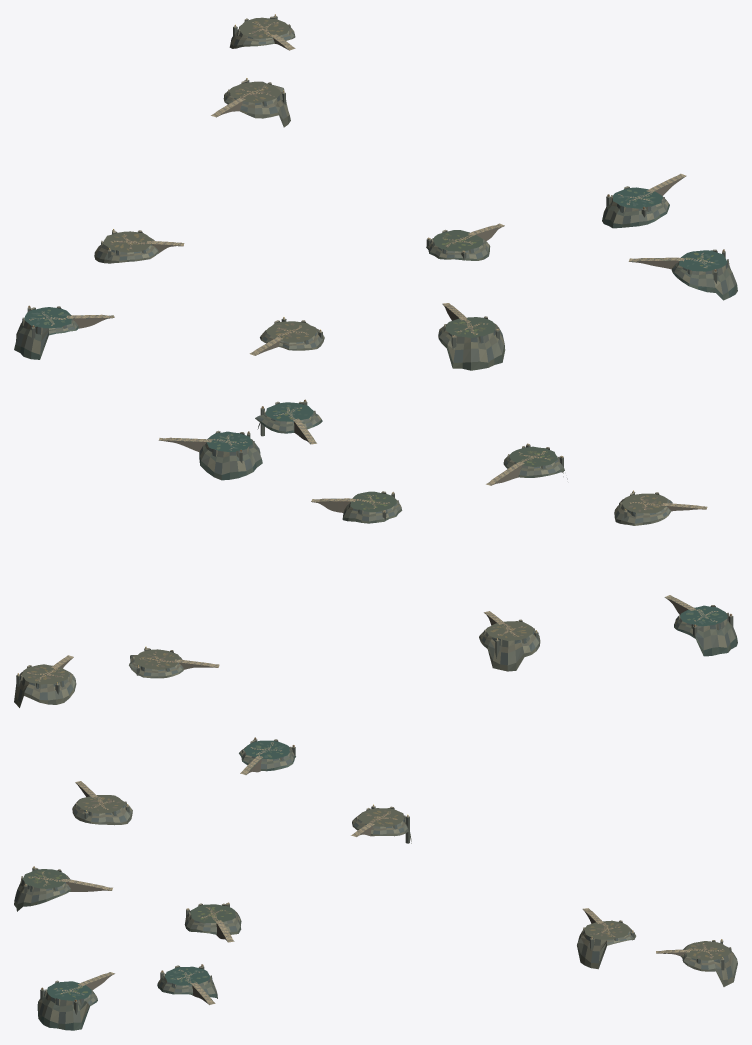
File: roaming_parcels_2.glb
3 views of the same model, one above another, from view 1: azimuth 30°, elevation 25°; view 2: azimuth 150°, elevation 25°; view 3: azimuth 270°, elevation 25° (orthographic). The views are drawn at different scales.
Visible parts, largest first — view 1: Detail_9_16, Detail_14_15, Detail_11_6, Detail_14_13, Detail_12_4, Detail_13_13, Detail_3_12, Deck_11_12-col, Deck_14_13-col, Deck_9_15-col, Deck_6_14-col, Deck_12_4-col (+8 smaller); view 2: Detail_6_9, Detail_3_11, Detail_9_15, Detail_12_3, Detail_6_14, Detail_11_12, Detail_13_13, Detail_14_12, Deck_6_14-col, Deck_11_12-col, Deck_9_15-col, Deck_11_5-col (+7 smaller); view 3: Detail_14_15, Detail_14_13, Detail_11_6, Detail_11_12, Detail_12_3, Detail_12_4, Deck_12_4-col, Deck_11_12-col, Deck_14_13-col, Deck_9_15-col, Deck_11_5-col, Deck_6_14-col (+7 smaller).
Boxes of the visible parts, box(x1,y1,x2,y2) form: Detail_9_16: box(446, 326, 504, 370); Detail_14_15: box(685, 249, 737, 300); Detail_11_6: box(240, 91, 290, 127); Detail_14_13: box(619, 181, 673, 226); Detail_12_4: box(229, 22, 295, 49); Detail_13_13: box(602, 194, 638, 228); Detail_3_12: box(20, 321, 56, 359); Deck_11_12-col: box(433, 225, 497, 251); Deck_14_13-col: box(613, 182, 667, 208); Deck_9_15-col: box(445, 311, 495, 337); Deck_6_14-col: box(266, 321, 316, 343); Deck_12_4-col: box(239, 17, 288, 48); Detail_6_9: box(480, 626, 539, 671); Detail_3_11: box(689, 615, 730, 656); Detail_9_15: box(501, 447, 564, 480); Detail_12_3: box(14, 673, 63, 707); Detail_6_14: box(620, 499, 681, 525); Detail_11_12: box(317, 495, 377, 522); Detail_13_13: box(229, 438, 262, 477); Detail_14_12: box(178, 439, 223, 480); Deck_6_14-col: box(621, 493, 680, 513); Deck_11_12-col: box(320, 491, 396, 512); Deck_9_15-col: box(504, 446, 557, 473); Deck_11_5-col: box(134, 649, 179, 669); Detail_14_15: box(37, 986, 90, 1030); Detail_14_13: box(157, 970, 205, 998); Detail_11_6: box(577, 922, 604, 969); Detail_11_12: box(198, 911, 241, 939); Detail_12_3: box(708, 939, 737, 986); Detail_12_4: box(658, 941, 715, 969); Deck_12_4-col: box(659, 941, 729, 960); Deck_11_12-col: box(190, 904, 235, 936); Deck_14_13-col: box(165, 966, 209, 995); Deck_9_15-col: box(23, 869, 86, 888); Deck_11_5-col: box(584, 920, 629, 939); Deck_6_14-col: box(77, 791, 124, 813).
Size of the model in its own units: 426 by 35.59 by 459.
